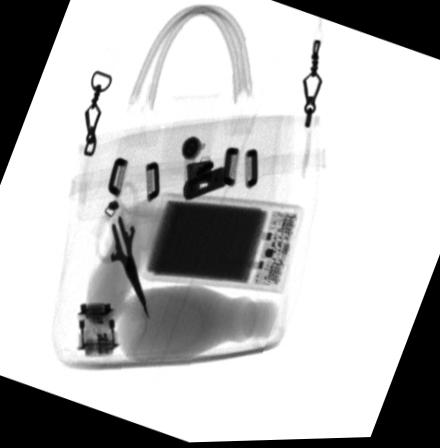Powerbank: (139, 190, 306, 298)
Scissors: (90, 181, 148, 322)
